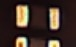COMP: (12, 3, 65, 33)
GAP: (16, 15, 62, 47)
